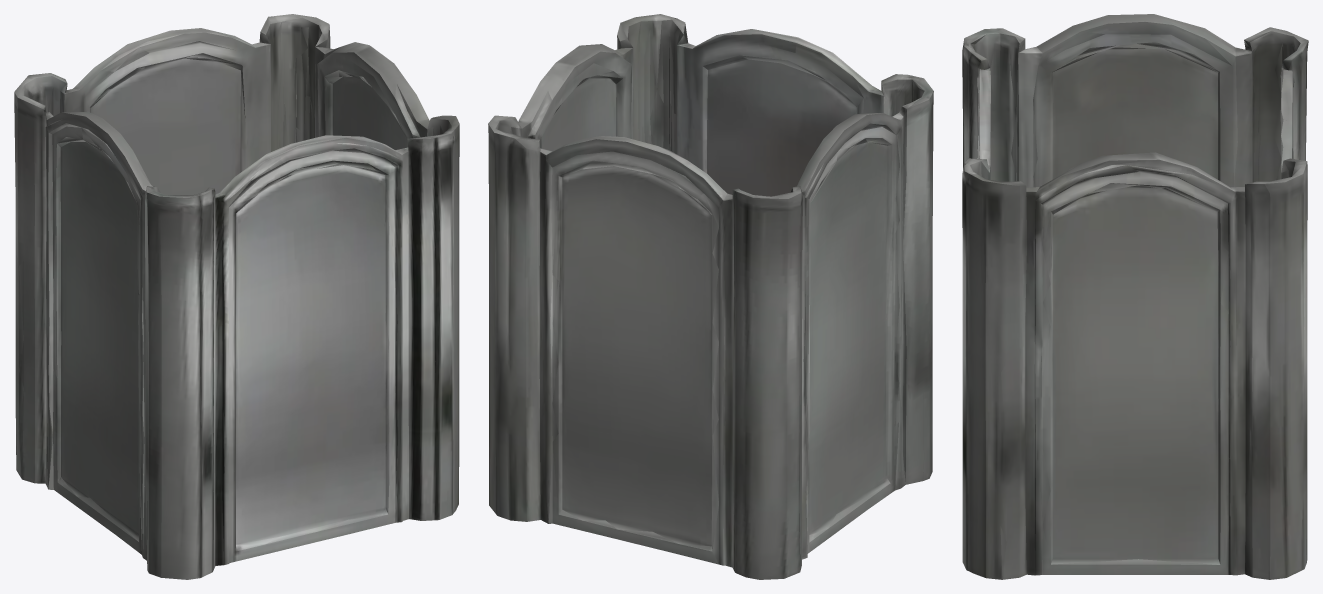
Rendered from m2MirrorHallBg.glb.
3 views of the same model, side by side, from view 1: azimuth 30°, elevation 25°; view 2: azimuth 150°, elevation 25°; view 3: azimuth 270°, elevation 25° (orthographic). The views are drawn at different scales.
Parts seen in each view (by area): view 1: model; view 2: model; view 3: model.
Boxes of the visible parts, box(x1,y1,x2,y2) form: model: box(14, 14, 459, 579); model: box(488, 14, 933, 579); model: box(962, 14, 1308, 579).
Bounding box in the file's own units: 1.53 × 1.89 × 1.42.
Materials: 1 (1 with a texture image).
